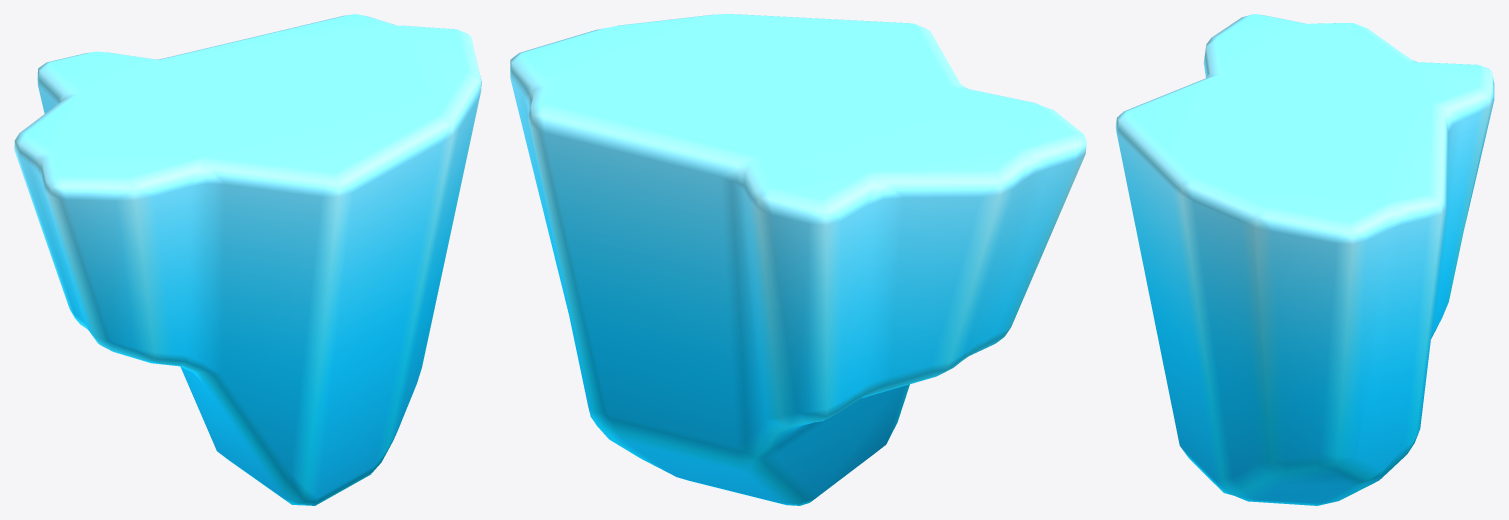
The model's file is ice_003.glb.
The picture shows the model from 3 angles, left to right: view 1: azimuth 30°, elevation 25°; view 2: azimuth 150°, elevation 25°; view 3: azimuth 270°, elevation 25°; orthographic projection. The views are drawn at different scales.
Parts seen in each view (by area): view 1: ice_003; view 2: ice_003; view 3: ice_003.
Boxes of the visible parts, <box> form: ice_003: <box>14,14,481,505</box>; ice_003: <box>510,14,1086,505</box>; ice_003: <box>1115,14,1494,505</box>.
Bounding box in the file's own units: 3.59 × 2.66 × 2.63.
Materials: 1 (1 with a texture image).
